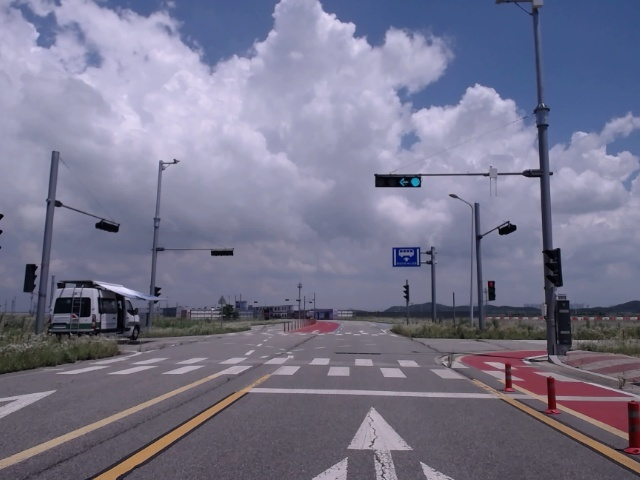all_green_4: (376, 174, 421, 186)
